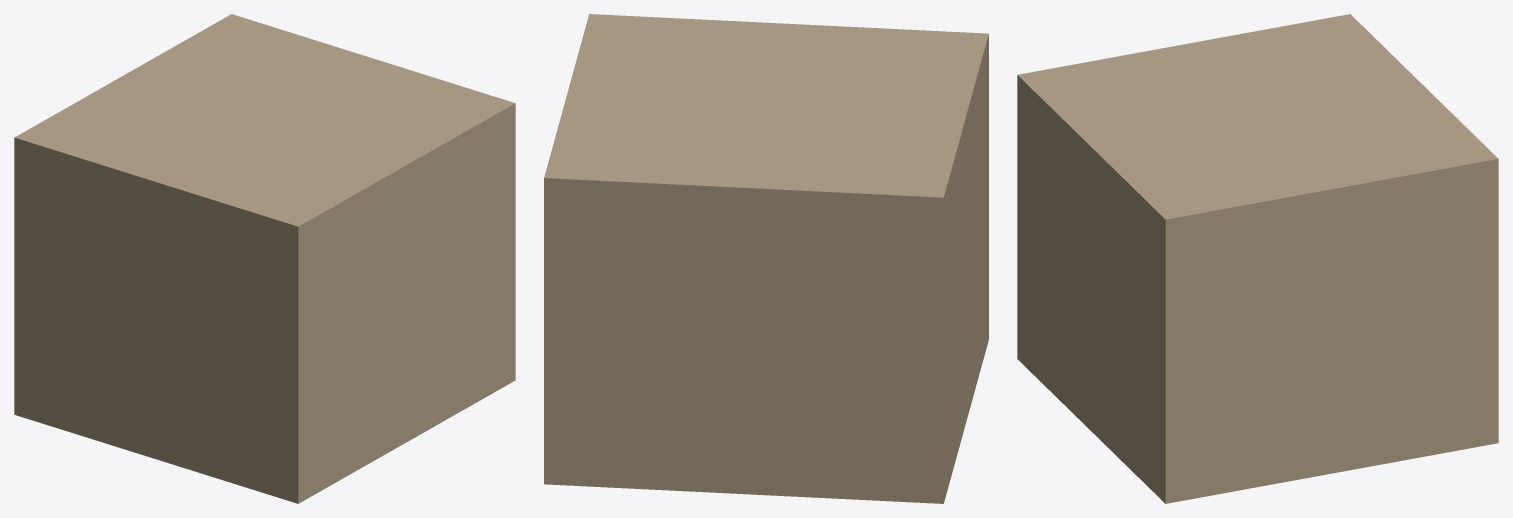
The model's file is bld_106415239.dae.
3 renders of one model, left to right at view 1: azimuth 30°, elevation 25°; view 2: azimuth 150°, elevation 25°; view 3: azimuth 270°, elevation 25°, orthographic. The views are drawn at different scales.
Visible parts, largest first — view 1: bld_106415239; view 2: bld_106415239; view 3: bld_106415239.
Part boxes in pixels (x1,y1,x2,y2): bld_106415239: (14, 14, 515, 503); bld_106415239: (544, 14, 988, 503); bld_106415239: (1017, 14, 1498, 503).
Bounding box in the file's own units: 12.41 × 12.27 × 8.
